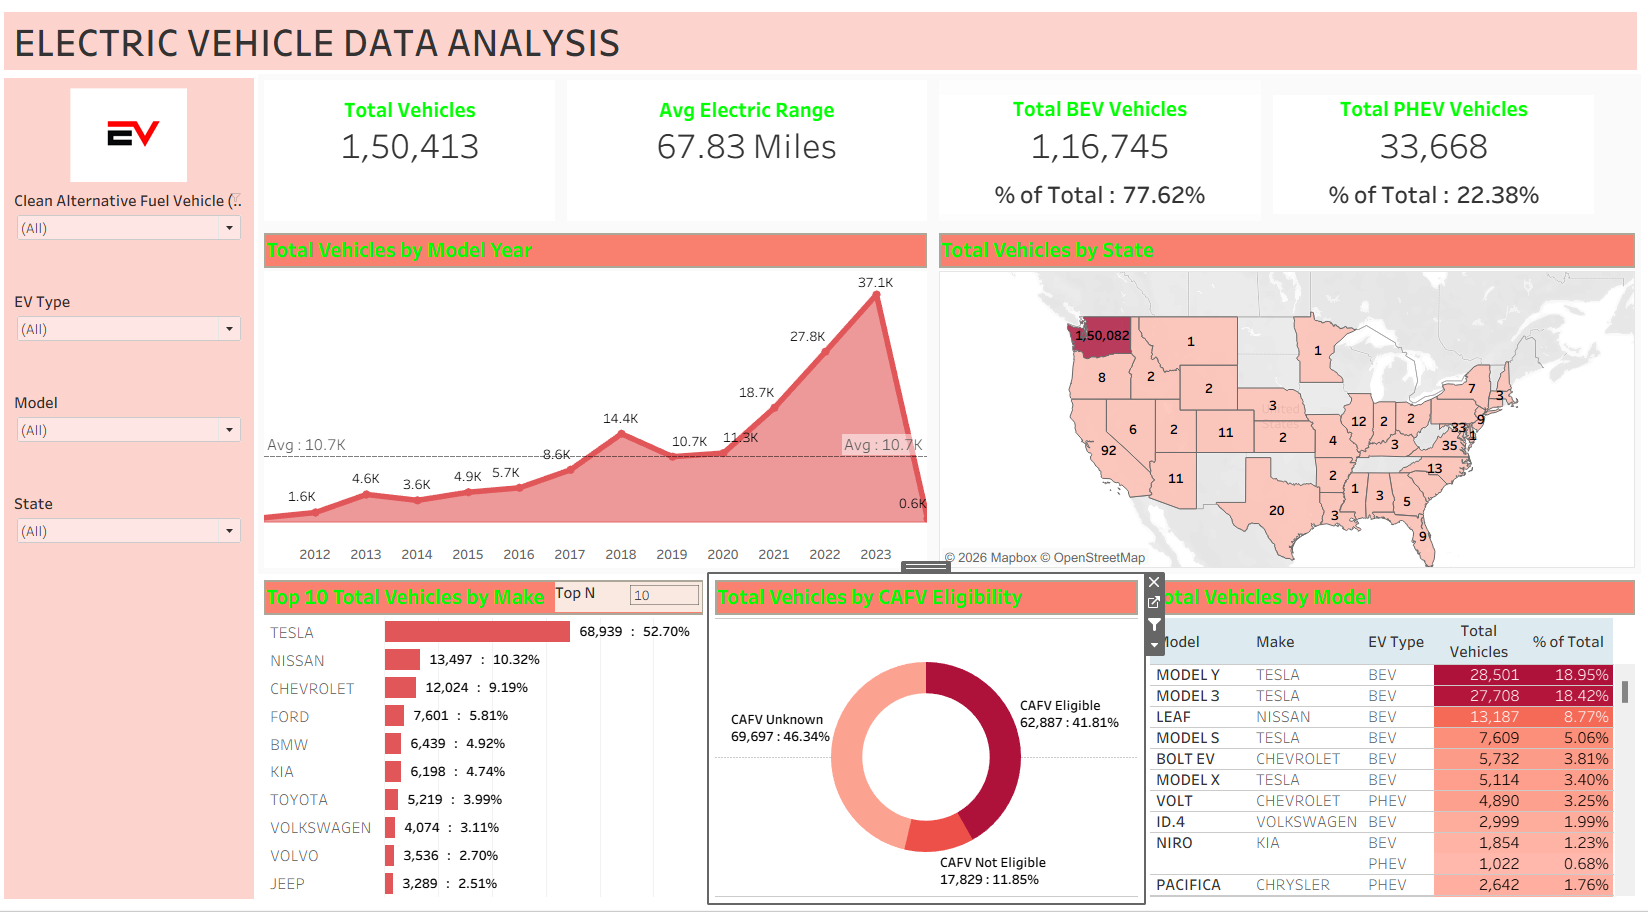

This screenshot's page, from the dashboard's own definition file:
{"tool":"tableau","page":{"name":"Dashboard 1","canvas":[1000,1000],"units":"permille","ordinal":0},"visuals":[{"type":"title","box":[4.8,8.8,990.3,72.5]},{"type":"worksheet","title":"Total Vehicles","mark":"Automatic","box":[160.4,81.2,183,168]},{"type":"worksheet","title":"Avg Electric Range","mark":"Automatic","box":[343.4,81.2,224.3,168]},{"type":"worksheet","title":"Total BEV Vehicles","mark":"Automatic","box":[567.7,81.2,201.5,168]},{"type":"worksheet","title":"Total PHEV Vehicles","mark":"Automatic","box":[769.2,81.2,201.1,168]},{"type":"blank","box":[970.4,81.2,24.8,168]},{"type":"image","param":"C:/Users/ASUS/Desktop/360_F_380627265_bD8AxoeMjTFhYGkMCa3xX0EpV6mpHNIj.jpg","box":[10.9,92.2,143.6,112]},{"type":"filter","title":"Total Vehicles by Model Year","param":"[federated.0u1asr21umcunk1by8v480snbzqi].[none:Clean Alternative Fuel Vehicle (C","box":[10.9,204.2,143.6,110.9]},{"type":"worksheet","title":"Total Vehicles by Model Year","mark":"Area","rows":["Calculation_0807091983396864","Calculation_0807091983396864"],"cols":["Model Year"],"box":[160.4,249.2,407.2,381.2]},{"type":"worksheet","title":"Total Vehicles by State","mark":"Multipolygon","box":[567.6,249.2,427.5,381.2]},{"type":"filter","title":"Total Vehicles by Model Year","param":"[federated.0u1asr21umcunk1by8v480snbzqi].[none:Electric Vehicle Type:nk]","box":[10.9,315,143.6,110.9]},{"type":"filter","title":"Total Vehicles by Model Year","param":"[federated.0u1asr21umcunk1by8v480snbzqi].[none:Model:nk]","box":[10.9,425.9,143.6,110.9]},{"type":"filter","title":"Total Vehicles by Model Year","param":"[federated.0u1asr21umcunk1by8v480snbzqi].[none:State:nk]","box":[10.9,536.8,143.6,110.9]},{"type":"worksheet","title":"Top 10 Total Vehicles by Make","mark":"Automatic","rows":["Make"],"cols":["Calculation_0807091983396864"],"box":[160.4,630.4,272.3,360.8]},{"type":"worksheet","title":"Total Vehicles by CAFV Eligibility","mark":"Pie","rows":["Calculation_0047880265023489","Calculation_0047880265261059"],"box":[432.7,630.4,262.5,360.8]},{"type":"worksheet","title":"Total Vehicles by Model","mark":"Square","rows":["Model","Make","Electric Vehicle Type"],"box":[695.2,630.4,299.9,360.8]},{"type":"parameter","param":"[Parameters].[Parameter 0204010210361344]","box":[339.8,638.9,88.7,32.9]},{"type":"blank","box":[10.9,647.6,143.6,110.9]},{"type":"blank","box":[10.9,758.5,143.6,110.9]},{"type":"blank","box":[10.9,869.4,143.6,110.9]}]}

Visuals, with their boxes on the dashboard's canvas, which has no fixed pixel size, in thousandths of its width and height (x1, y1, x2, y2). These are canvas units, not pixel positions in the 1648x912 screenshot, which may show the page scaled, cropped or inside an application window:
title: box(5, 9, 995, 81)
"Total Vehicles" worksheet: box(160, 81, 343, 249)
"Avg Electric Range" worksheet: box(343, 81, 568, 249)
"Total BEV Vehicles" worksheet: box(568, 81, 769, 249)
"Total PHEV Vehicles" worksheet: box(769, 81, 970, 249)
blank: box(970, 81, 995, 249)
image: box(11, 92, 154, 204)
"Total Vehicles by Model Year" filter: box(11, 204, 154, 315)
"Total Vehicles by Model Year" worksheet (Area marks): box(160, 249, 568, 630)
"Total Vehicles by State" worksheet (Multipolygon marks): box(568, 249, 995, 630)
"Total Vehicles by Model Year" filter: box(11, 315, 154, 426)
"Total Vehicles by Model Year" filter: box(11, 426, 154, 537)
"Total Vehicles by Model Year" filter: box(11, 537, 154, 648)
"Top 10 Total Vehicles by Make" worksheet: box(160, 630, 433, 991)
"Total Vehicles by CAFV Eligibility" worksheet (Pie marks): box(433, 630, 695, 991)
"Total Vehicles by Model" worksheet (Square marks): box(695, 630, 995, 991)
parameter: box(340, 639, 428, 672)
blank: box(11, 648, 154, 758)
blank: box(11, 758, 154, 869)
blank: box(11, 869, 154, 980)
